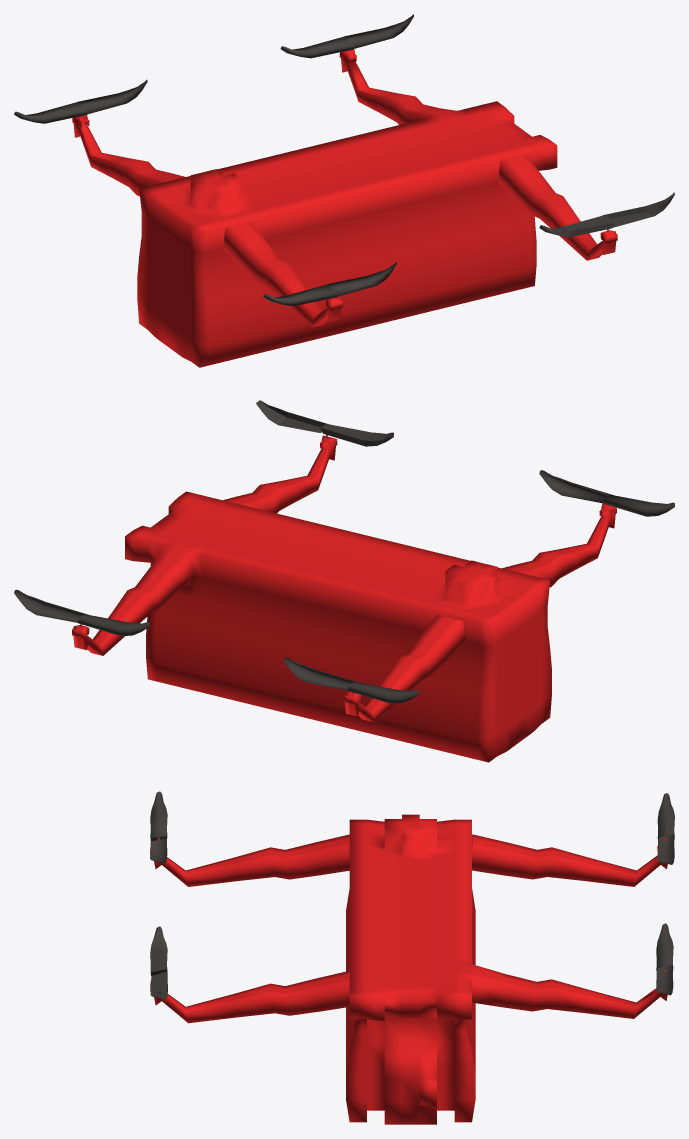
Rendered from dronRojo.fbx.
3 renders of one model, top to bottom at view 1: azimuth 30°, elevation 25°; view 2: azimuth 150°, elevation 25°; view 3: azimuth 270°, elevation 25°, orthographic.
Visible parts, largest first — view 1: Cube.001; view 2: Cube.001; view 3: Cube.001.
Part boxes in pixels (box(x1,y1,x2,y2)): Cube.001: box(14, 14, 674, 367); Cube.001: box(14, 400, 674, 762); Cube.001: box(150, 791, 674, 1124).
Bounding box in the file's own units: 246 × 88.14 × 337.
